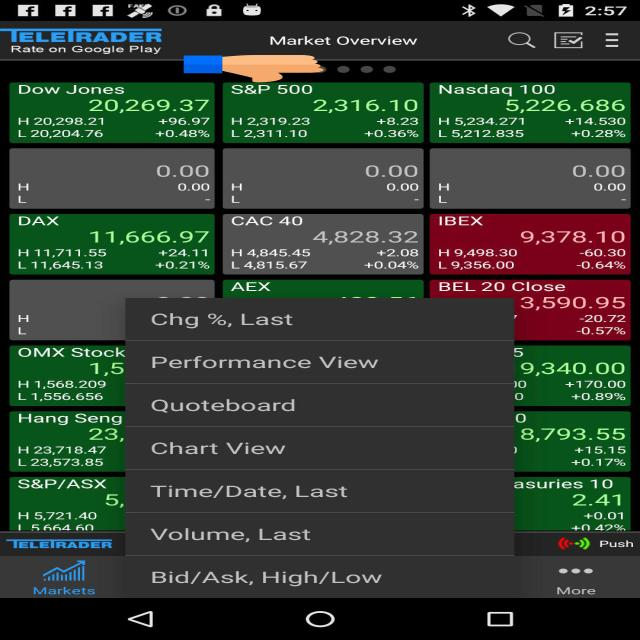obstruction: (184, 54, 324, 83)
